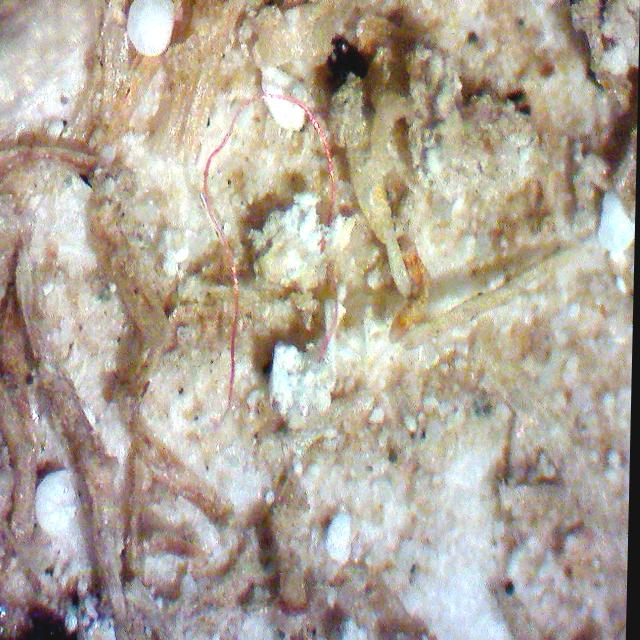microplastic: (205, 93, 341, 412)
